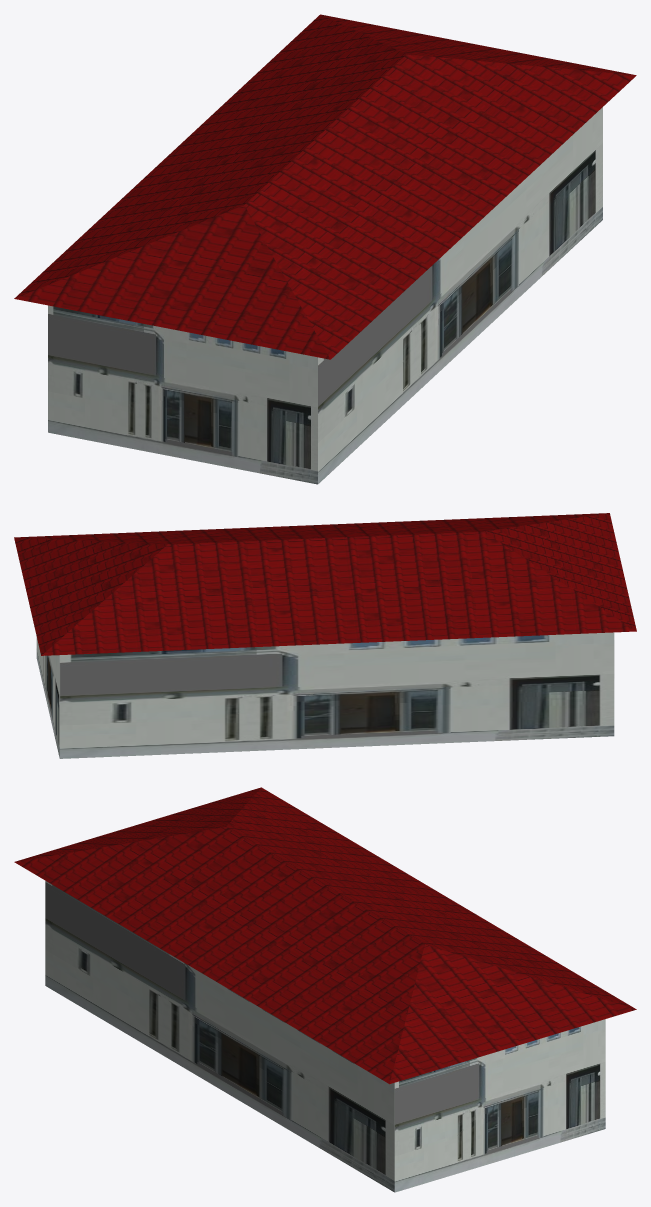
3 renders of one model, top to bottom at view 1: azimuth 30°, elevation 25°; view 2: azimuth 150°, elevation 25°; view 3: azimuth 270°, elevation 25°, orthographic. The views are drawn at different scales.
Parts seen in each view (by area): view 1: CityEngineMaterial_17_m, CityEngineMaterial_11_m; view 2: CityEngineMaterial_17_m, CityEngineMaterial_11_m; view 3: CityEngineMaterial_17_m, CityEngineMaterial_11_m.
Boxes of the visible parts, <box> form: CityEngineMaterial_17_m: <box>14,14,636,359</box>; CityEngineMaterial_11_m: <box>48,107,602,484</box>; CityEngineMaterial_17_m: <box>14,513,636,655</box>; CityEngineMaterial_11_m: <box>36,632,614,758</box>; CityEngineMaterial_17_m: <box>14,787,636,1084</box>; CityEngineMaterial_11_m: <box>45,881,605,1192</box>.
Size of the model in its own units: 29.53 by 7.96 by 26.18.
